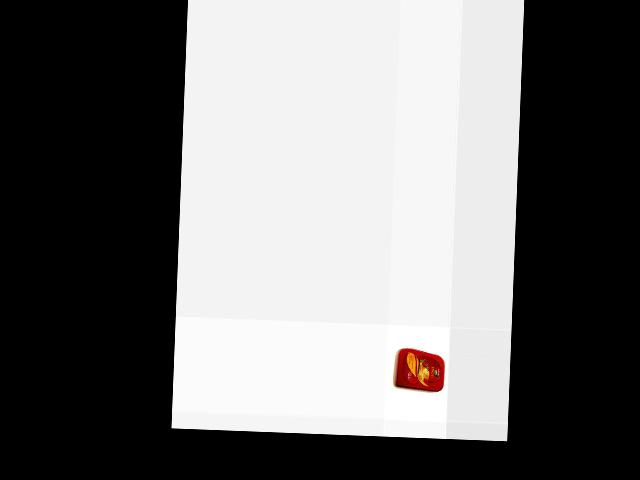cheese: (393, 348, 448, 393)
